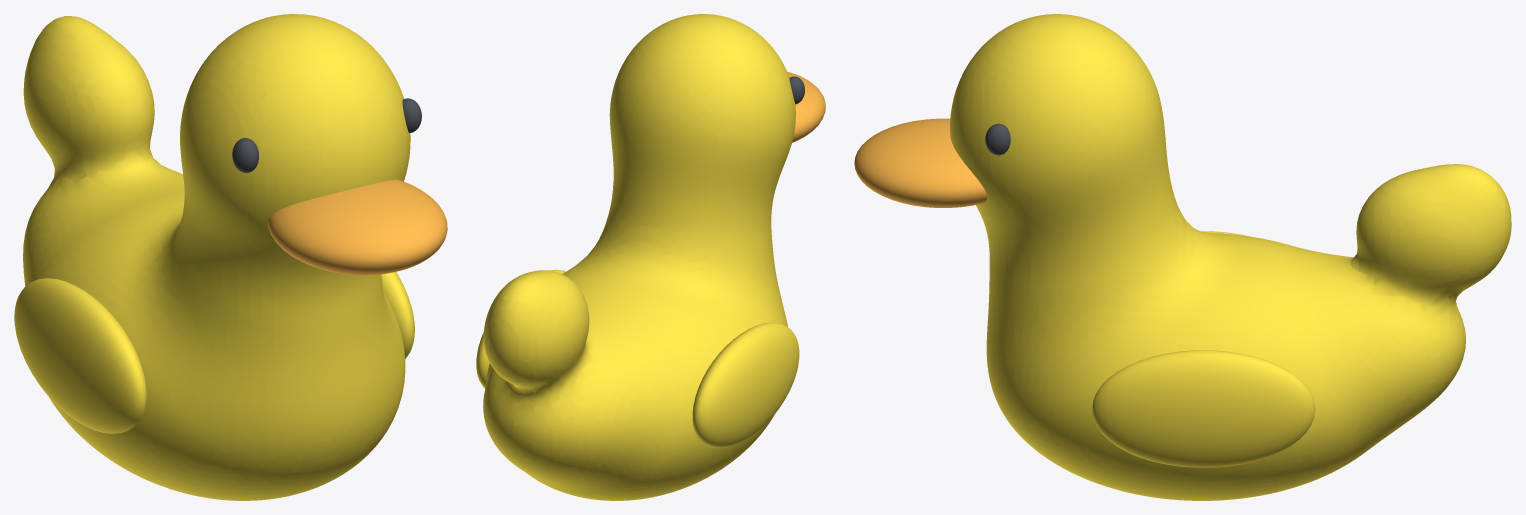
The model's file is duck_04_raised_tail.glb.
3 renders of one model, left to right at view 1: azimuth 30°, elevation 25°; view 2: azimuth 150°, elevation 25°; view 3: azimuth 270°, elevation 25°, orthographic. The views are drawn at different scales.
Parts seen in each view (by area): view 1: Body, Wing_Left, Beak, Wing_Right, Eye_Left, Eye_Right; view 2: Body, Wing_Left, Beak, Wing_Right; view 3: Body, Wing_Right, Beak.
Boxes of the visible parts, <box> form: Body: <box>23,14,410,500</box>; Wing_Left: <box>14,278,146,433</box>; Beak: <box>267,179,447,275</box>; Wing_Right: <box>381,272,414,358</box>; Eye_Left: <box>232,138,258,172</box>; Eye_Right: <box>402,98,421,133</box>; Body: <box>483,14,795,500</box>; Wing_Left: <box>692,322,799,448</box>; Beak: <box>787,72,825,142</box>; Wing_Right: <box>476,269,565,388</box>; Body: <box>950,14,1511,500</box>; Wing_Right: <box>1092,350,1315,467</box>; Beak: <box>854,118,986,207</box>.
Bounding box in the file's own units: 0.9 × 1.36 × 1.76.
